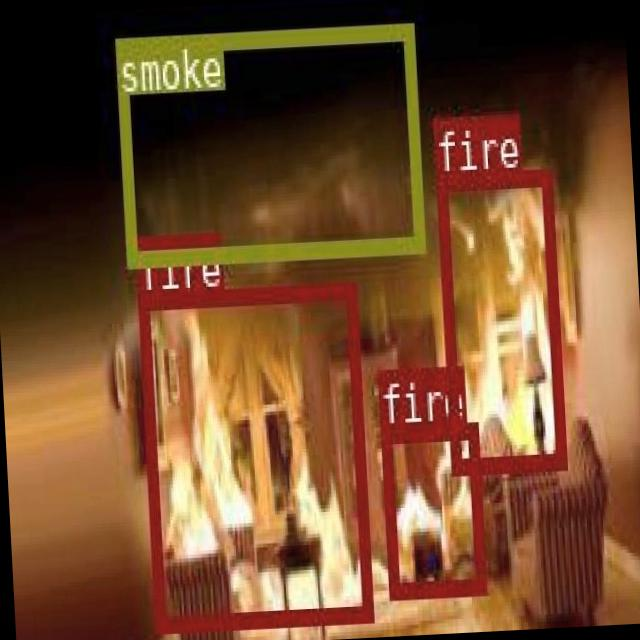fire: (137, 281, 371, 629), (435, 168, 565, 470), (378, 420, 484, 594)
smoke: (115, 23, 422, 263)
